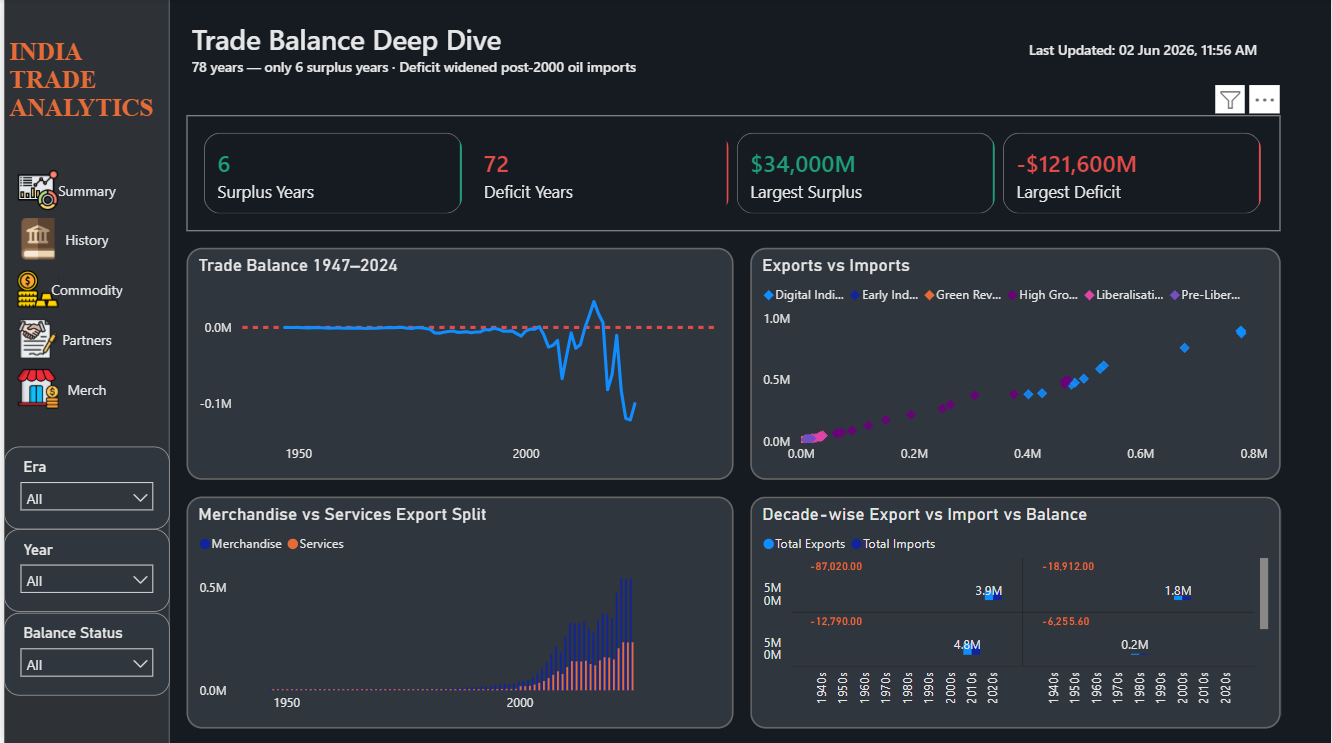

This screenshot's page, from the dashboard's own definition file:
{"tool":"powerbi","page":{"name":"Trade Balance Deep Dive","canvas":[1280,720],"ordinal":4},"visuals":[{"type":"cardVisual","fields":{"Data":["MeasuresTable.Surplus Years","MeasuresTable.Deficit Years","MeasuresTable.Largest Surplus","MeasuresTable.Largest Deficit"]},"box":[176,112,1056,112],"z":0},{"type":"lineChart","title":"Trade Balance 1947–2024 ","fields":{"Category":["vw_TradeSummary.year"],"Y":["Sum(vw_TradeSummary.trade_balance_usd_million)"]},"box":[176,240,528,224],"z":1000},{"type":"scatterChart","title":"Exports vs Imports","fields":{"X":["Sum(vw_TradeSummary.exports_usd_million)"],"Y":["Sum(vw_TradeSummary.imports_usd_million)"],"Series":["vw_TradeSummary.era"],"Category":["vw_TradeSummary.year"]},"box":[720,240,512,224],"z":2000},{"type":"clusteredColumnChart","title":"Merchandise vs Services Export Split","fields":{"Category":["vw_TradeSummary.year"],"Y":["Sum(vw_TradeSummary.exports_merchandise_usd_m)","Sum(vw_TradeSummary.exports_services_usd_m)"]},"box":[176,480,528,224],"z":3000},{"type":"clusteredColumnChart","title":"Decade-wise Export vs Import vs Balance","fields":{"Category":["vw_DecadeSummary.decade"],"Y":["Sum(vw_DecadeSummary.total_imports_usd_m)","Sum(vw_DecadeSummary.total_exports_usd_m)"],"Rows":["vw_DecadeSummary.avg_balance_usd_m"]},"box":[720,480,512,224],"z":4000},{"type":"textbox","box":[176,16,560,80],"z":5000},{"type":"shape","box":[0,0,160,720],"z":6000},{"type":"textbox","box":[0,32,160,128],"z":7000},{"type":"actionButton","box":[0,160,160,48],"z":8000},{"type":"actionButton","box":[0,208,160,48],"z":9000},{"type":"actionButton","box":[0,256,160,48],"z":10000},{"type":"actionButton","box":[0,304,160,48],"z":11000},{"type":"actionButton","box":[0,352,160,48],"z":12000},{"type":"cardVisual","fields":{"Data":["MeasuresTable.Last Refreshed"]},"box":[960,16,288,64],"z":13000},{"type":"slicer","fields":{"Values":["vw_TradeSummary.era"]},"box":[0,432,160,80],"z":13001},{"type":"slicer","fields":{"Values":["vw_TradeSummary.year"]},"box":[0,512,160,80],"z":13002},{"type":"slicer","fields":{"Values":["vw_TradeSummary.balance_status"]},"box":[0,592,160,80],"z":13003}]}

Visuals, with their boxes on the page's 1280x720 design canvas (x1, y1, x2, y2). These are canvas units, not pixel positions in the 1332x743 screenshot, which may show the page scaled, cropped or inside an application window:
cardVisual - MeasuresTable.Surplus Years x MeasuresTable.Deficit Years: x1=176, y1=112, x2=1232, y2=224
"Trade Balance 1947–2024 " lineChart: x1=176, y1=240, x2=704, y2=464
"Exports vs Imports" scatterChart: x1=720, y1=240, x2=1232, y2=464
"Merchandise vs Services Export Split" clusteredColumnChart: x1=176, y1=480, x2=704, y2=704
"Decade-wise Export vs Import vs Balance" clusteredColumnChart: x1=720, y1=480, x2=1232, y2=704
textbox: x1=176, y1=16, x2=736, y2=96
shape: x1=0, y1=0, x2=160, y2=720
textbox: x1=0, y1=32, x2=160, y2=160
actionButton: x1=0, y1=160, x2=160, y2=208
actionButton: x1=0, y1=208, x2=160, y2=256
actionButton: x1=0, y1=256, x2=160, y2=304
actionButton: x1=0, y1=304, x2=160, y2=352
actionButton: x1=0, y1=352, x2=160, y2=400
cardVisual - MeasuresTable.Last Refreshed: x1=960, y1=16, x2=1248, y2=80
slicer - vw_TradeSummary.era: x1=0, y1=432, x2=160, y2=512
slicer - vw_TradeSummary.year: x1=0, y1=512, x2=160, y2=592
slicer - vw_TradeSummary.balance_status: x1=0, y1=592, x2=160, y2=672
